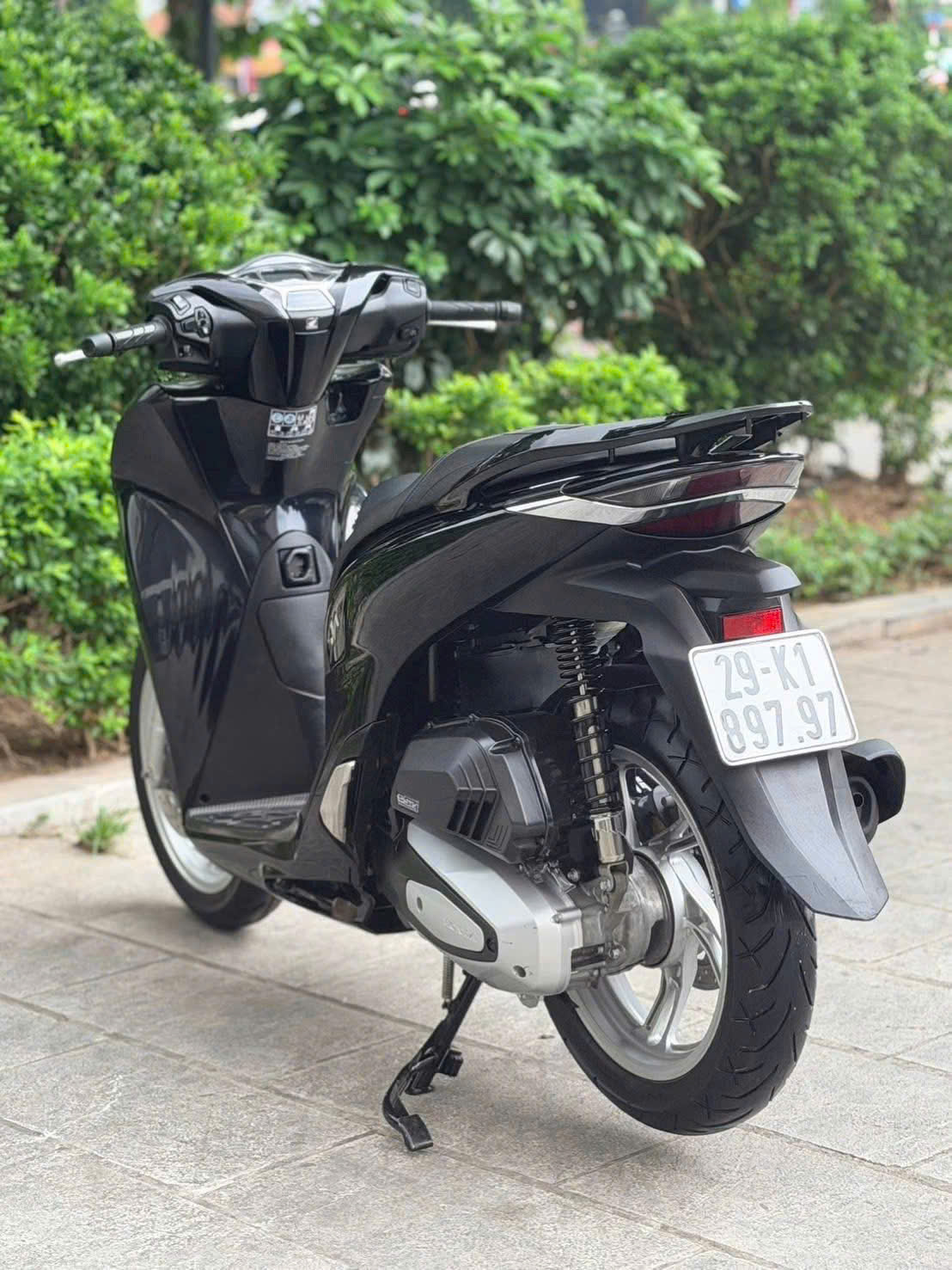Bien-so: (682, 623, 865, 774)
